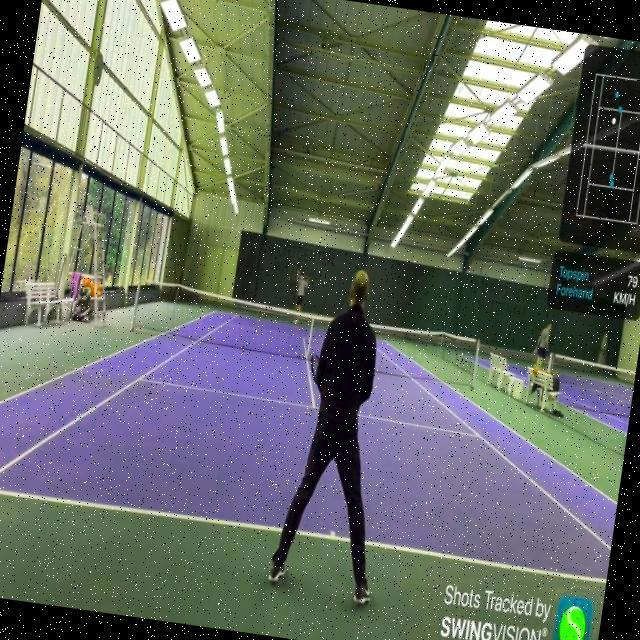court: (0, 281, 636, 584)
net: (128, 278, 484, 382)
player: (266, 261, 418, 607)
